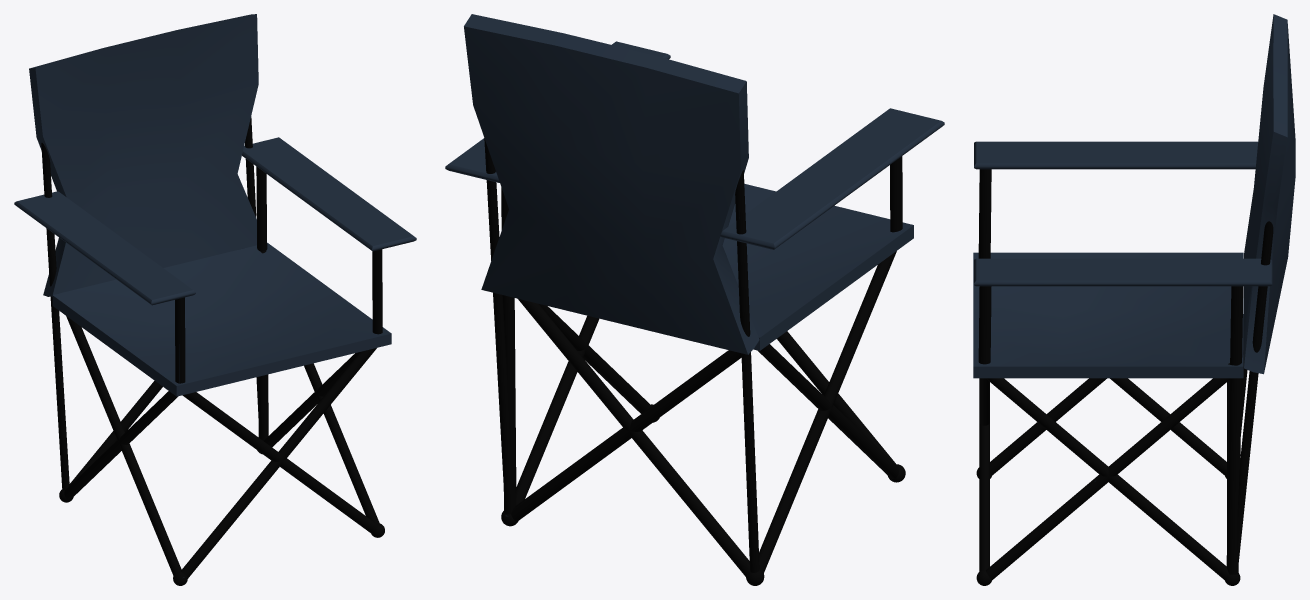
File: CampingChair.fbx
3 renders of one model, left to right at view 1: azimuth 30°, elevation 25°; view 2: azimuth 150°, elevation 25°; view 3: azimuth 270°, elevation 25°, orthographic. The views are drawn at different scales.
Parts seen in each view (by area): view 1: CampingChair; view 2: CampingChair; view 3: CampingChair.
Boxes of the visible parts, box(x1,y1,x2,y2) form: CampingChair: box(14, 14, 416, 585); CampingChair: box(445, 14, 944, 585); CampingChair: box(973, 14, 1295, 585).
Size of the model in its own units: 2.69 by 4.12 by 2.6.
